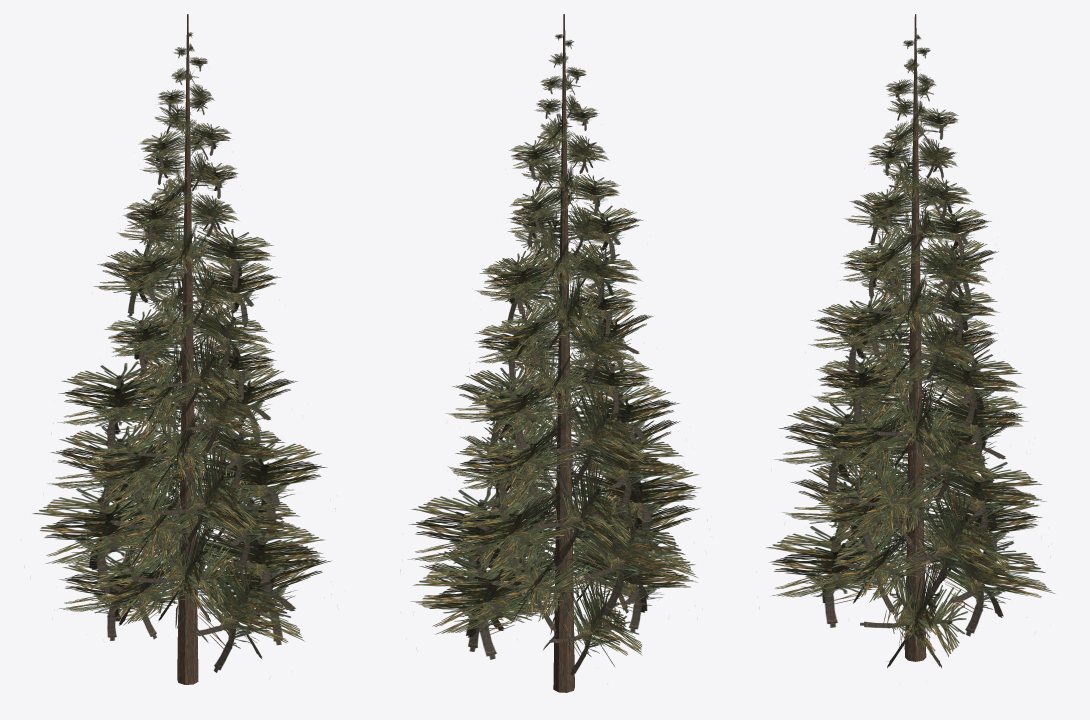
Rendered from pine.glb.
3 views of the same model, side by side, from view 1: azimuth 30°, elevation 25°; view 2: azimuth 150°, elevation 25°; view 3: azimuth 270°, elevation 25° (orthographic). The views are drawn at different scales.
Visible parts, largest first — view 1: Library_Pine_Branch_LOD; view 2: Library_Pine_Branch_LOD; view 3: Library_Pine_Branch_LOD.
Part boxes in pixels (box(x1,y1,x2,y2)): Library_Pine_Branch_LOD: box(32, 14, 331, 684); Library_Pine_Branch_LOD: box(408, 14, 700, 692); Library_Pine_Branch_LOD: box(766, 14, 1055, 668).
Bounding box in the file's own units: 0.469 × 1 × 0.4537.
Materials: 2 (2 with a texture image).
